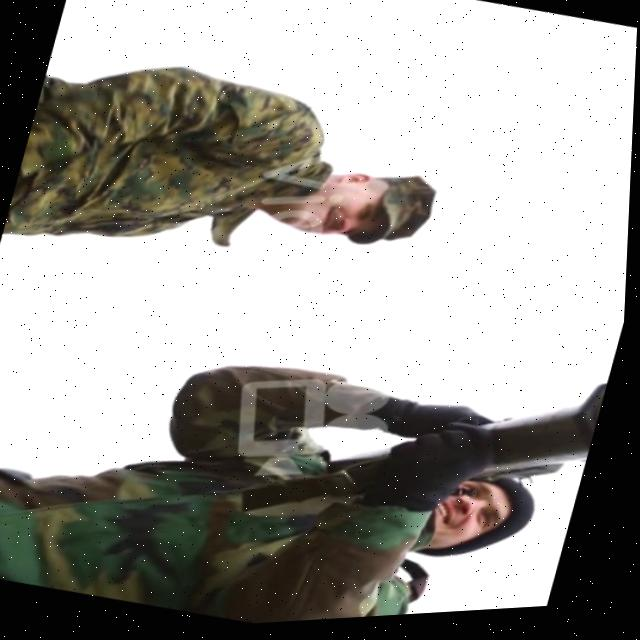rocket: (464, 349, 616, 508)
